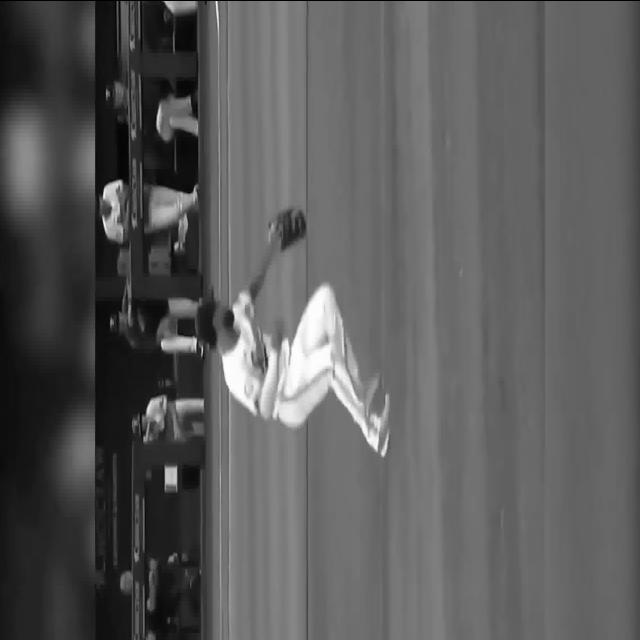baseball_glove: (274, 207, 306, 249)
shoe: (378, 393, 390, 456)
